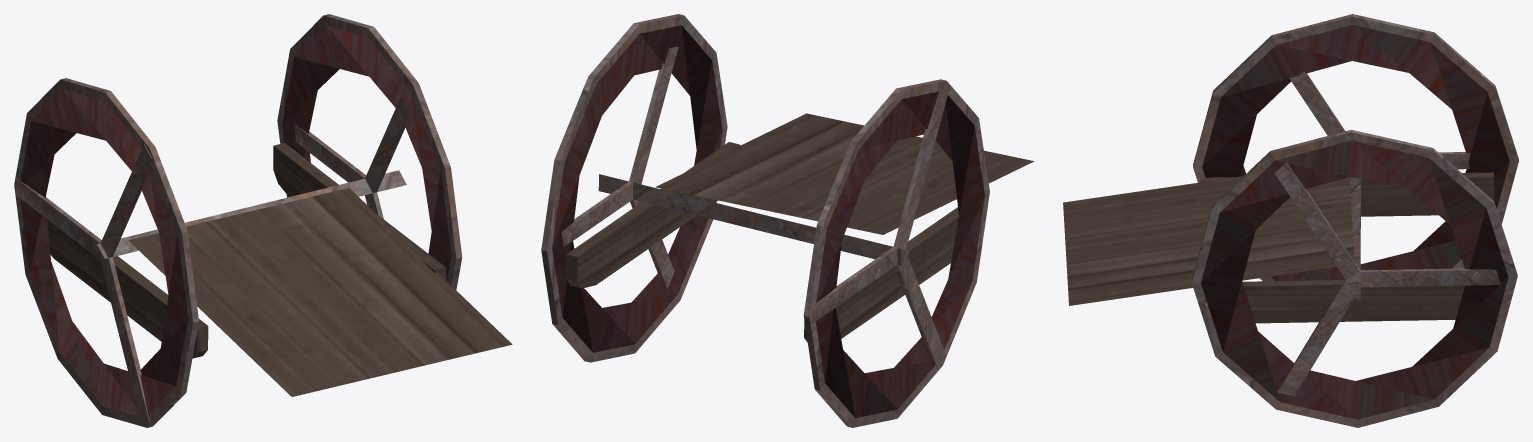
File: LoveDeath_MineWheel_Art.glb
The picture shows the model from 3 angles, left to right: view 1: azimuth 30°, elevation 25°; view 2: azimuth 150°, elevation 25°; view 3: azimuth 270°, elevation 25°; orthographic projection. The views are drawn at different scales.
Parts seen in each view (by area): view 1: LoveDeath_MineWheel_Art; view 2: LoveDeath_MineWheel_Art; view 3: LoveDeath_MineWheel_Art.
Part boxes in pixels (x1=…): LoveDeath_MineWheel_Art: x1=14, y1=14, x2=512, y2=427; LoveDeath_MineWheel_Art: x1=541, y1=14, x2=1034, y2=427; LoveDeath_MineWheel_Art: x1=1063, y1=14, x2=1518, y2=427.
Bounding box in the file's own units: 5.37 × 5.54 × 7.73.
1 material, 1 textured.
